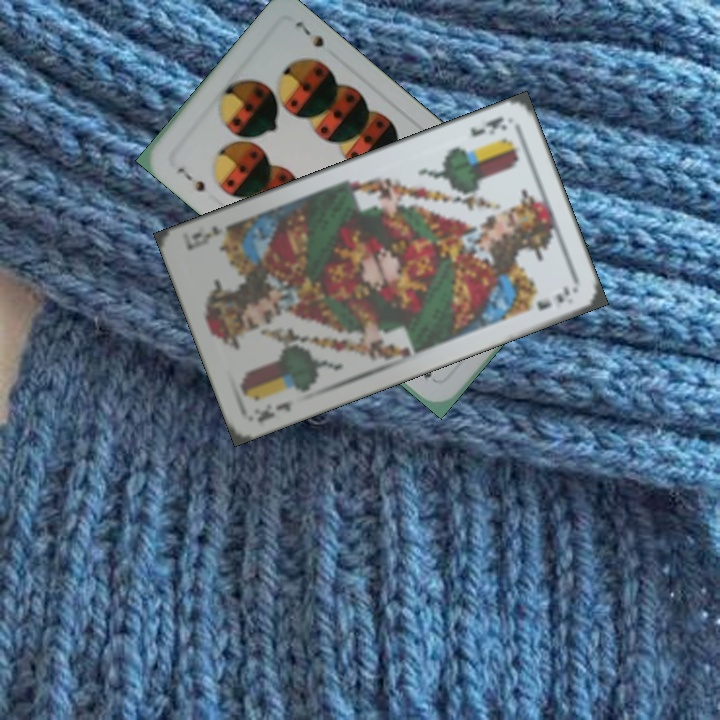EK: (253, 397, 297, 426), (465, 112, 510, 140)
S7: (173, 163, 208, 194)
